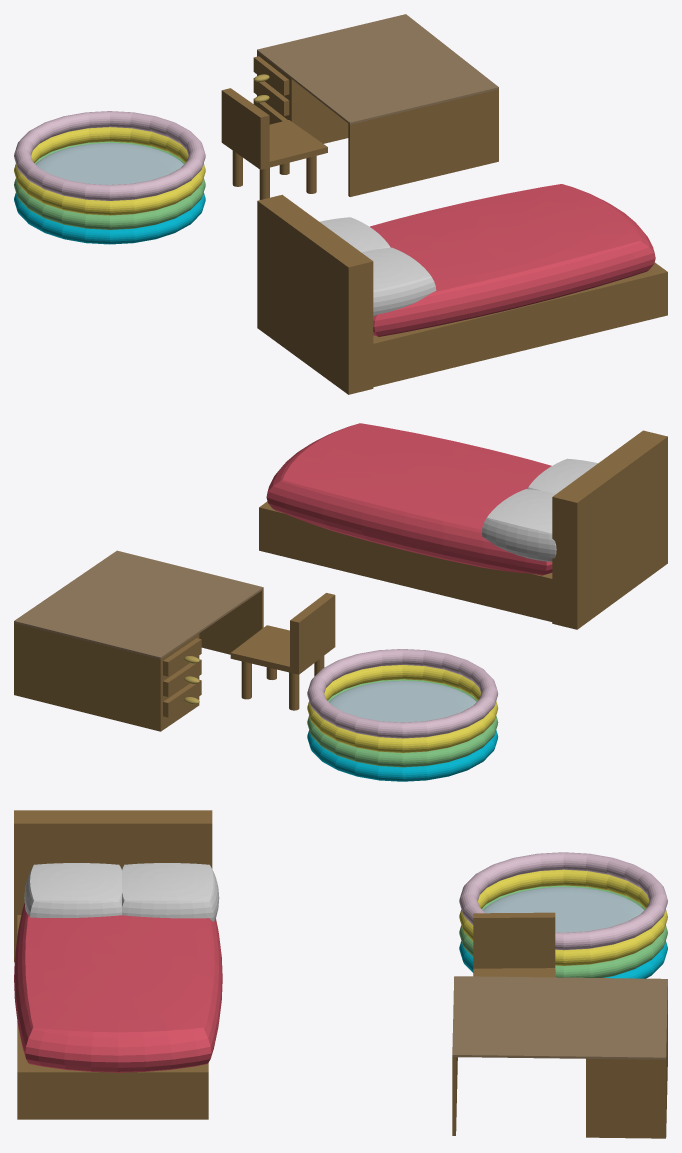
File: meow.glb
The picture shows the model from 3 angles, top to bottom: view 1: azimuth 30°, elevation 25°; view 2: azimuth 150°, elevation 25°; view 3: azimuth 270°, elevation 25°; orthographic projection. The views are drawn at different scales.
Visible parts, largest first — view 1: Mesh_Mesh_head_geo.001_lambert2SG.001; view 2: Mesh_Mesh_head_geo.001_lambert2SG.001; view 3: Mesh_Mesh_head_geo.001_lambert2SG.001.
Boxes of the visible parts, box(x1,y1,x2,y2) form: Mesh_Mesh_head_geo.001_lambert2SG.001: box(14, 14, 667, 394); Mesh_Mesh_head_geo.001_lambert2SG.001: box(14, 423, 667, 781); Mesh_Mesh_head_geo.001_lambert2SG.001: box(14, 810, 667, 1138).
Size of the model in its own units: 154 by 44 by 188.
